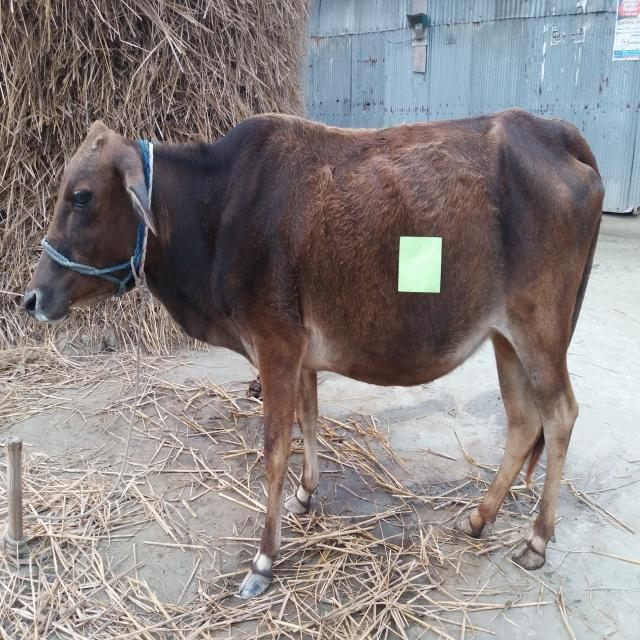badan_sapi: (218, 111, 601, 396)
sapi: (12, 109, 616, 590)
